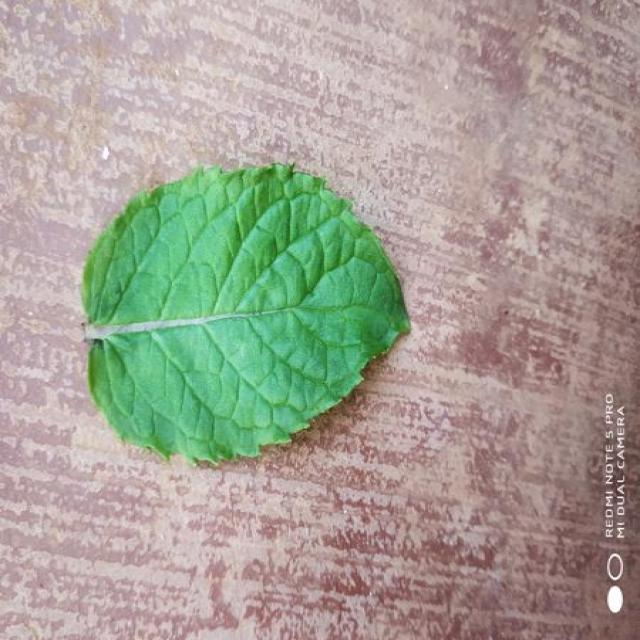mint: (83, 164, 408, 462)
